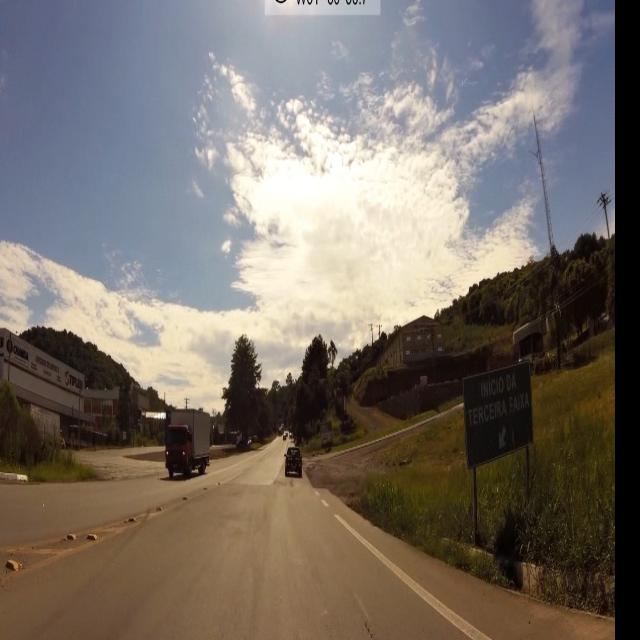I-4: (463, 366, 541, 466)
